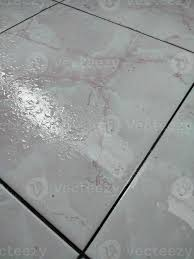Wet-floor: (1, 3, 194, 259)
